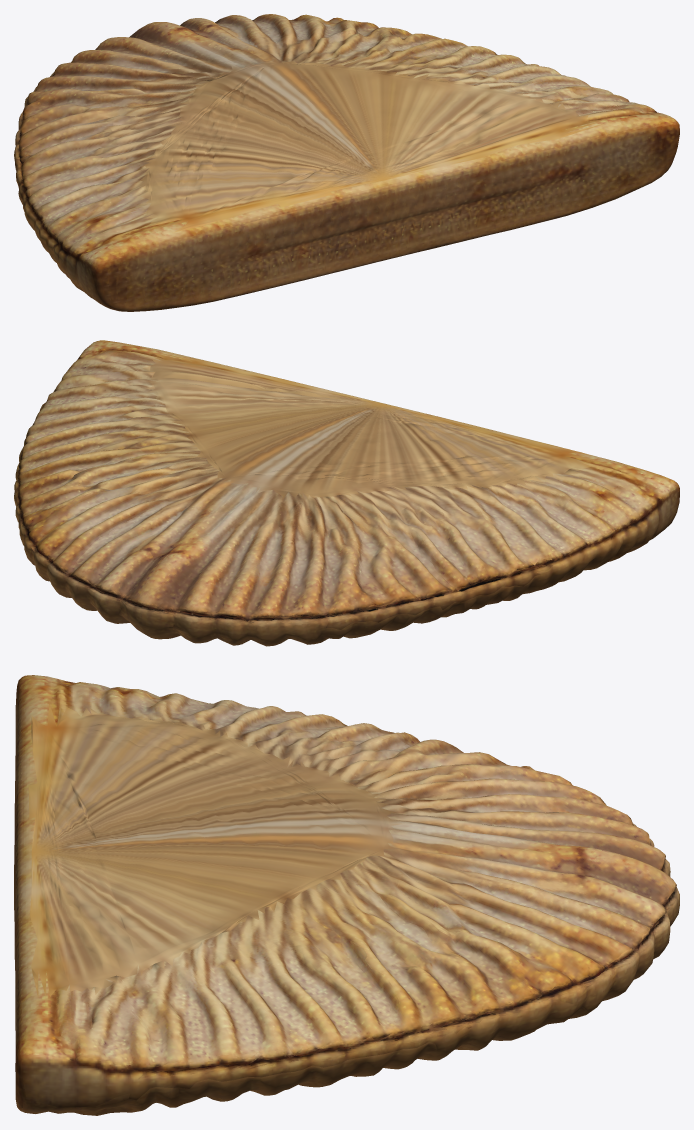
3 views of the same model, one above another, from view 1: azimuth 30°, elevation 25°; view 2: azimuth 150°, elevation 25°; view 3: azimuth 270°, elevation 25° (orthographic). The views are drawn at different scales.
Visible parts, largest first — view 1: Strophomena source-derived complete shell; view 2: Strophomena source-derived complete shell; view 3: Strophomena source-derived complete shell.
Boxes of the visible parts, left/top/right/bottom form: Strophomena source-derived complete shell: left=14, top=14, right=679, bottom=311; Strophomena source-derived complete shell: left=14, top=340, right=679, bottom=646; Strophomena source-derived complete shell: left=14, top=675, right=679, bottom=1115.
Bounding box in the file's own units: 0.9999 × 0.198 × 0.7336.
2 materials, 2 textured.
